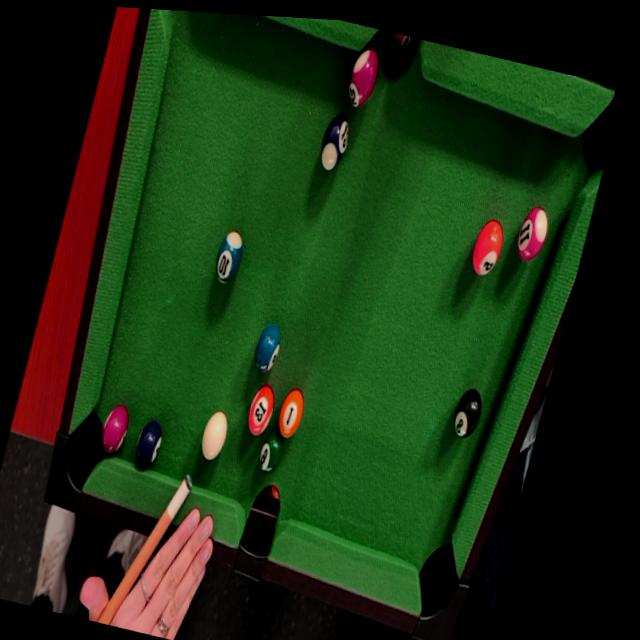cue ball: (195, 401, 235, 465)
other: (340, 40, 387, 112), (126, 407, 171, 481), (312, 106, 356, 180), (464, 214, 509, 280), (251, 414, 294, 482), (511, 198, 554, 265), (209, 222, 252, 288), (246, 316, 289, 378), (95, 396, 135, 462), (272, 381, 314, 443), (242, 375, 281, 441), (449, 381, 487, 441)
